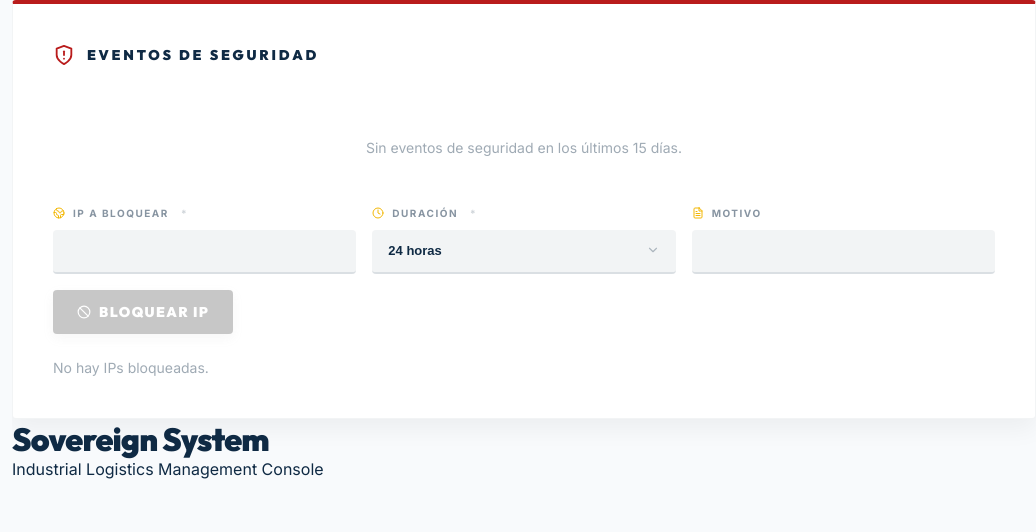
Test: SecurityEventsCard › un alta rechazada muestra el error y conserva la IP
Type "999.1.1.1" into the field with test id "deny-ip-input". click: (205, 252)
box: [53, 230, 356, 274]
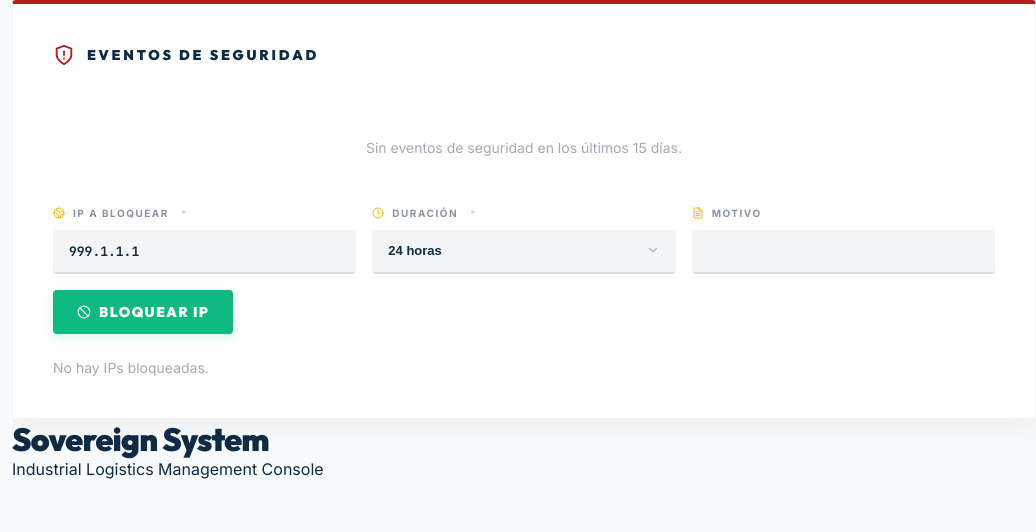
Click the button with test id "deny-ip-submit". click: (143, 312)
box: [53, 290, 233, 334]
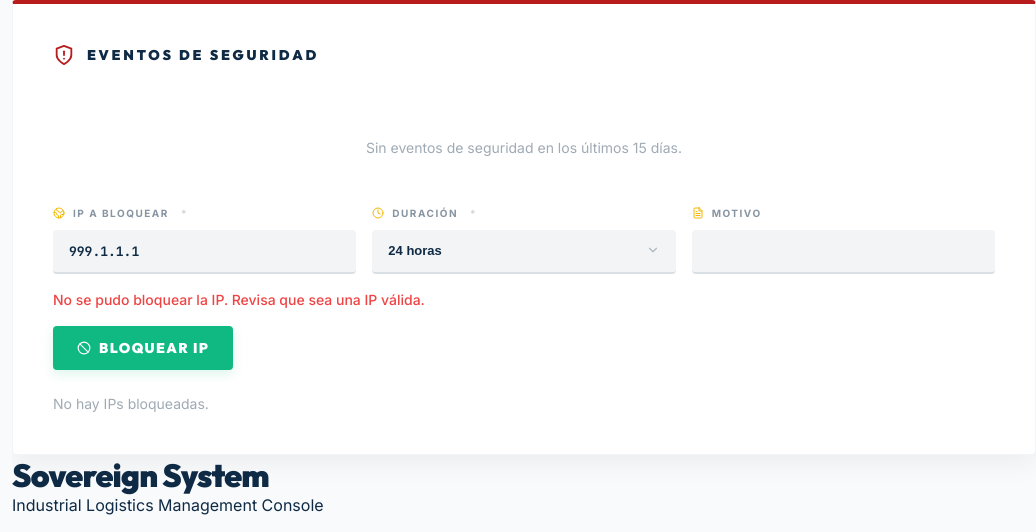
Result: the text "No se pudo bloquear la IP. Revisa que sea una IP válida." is shown at [53, 291, 425, 308]
